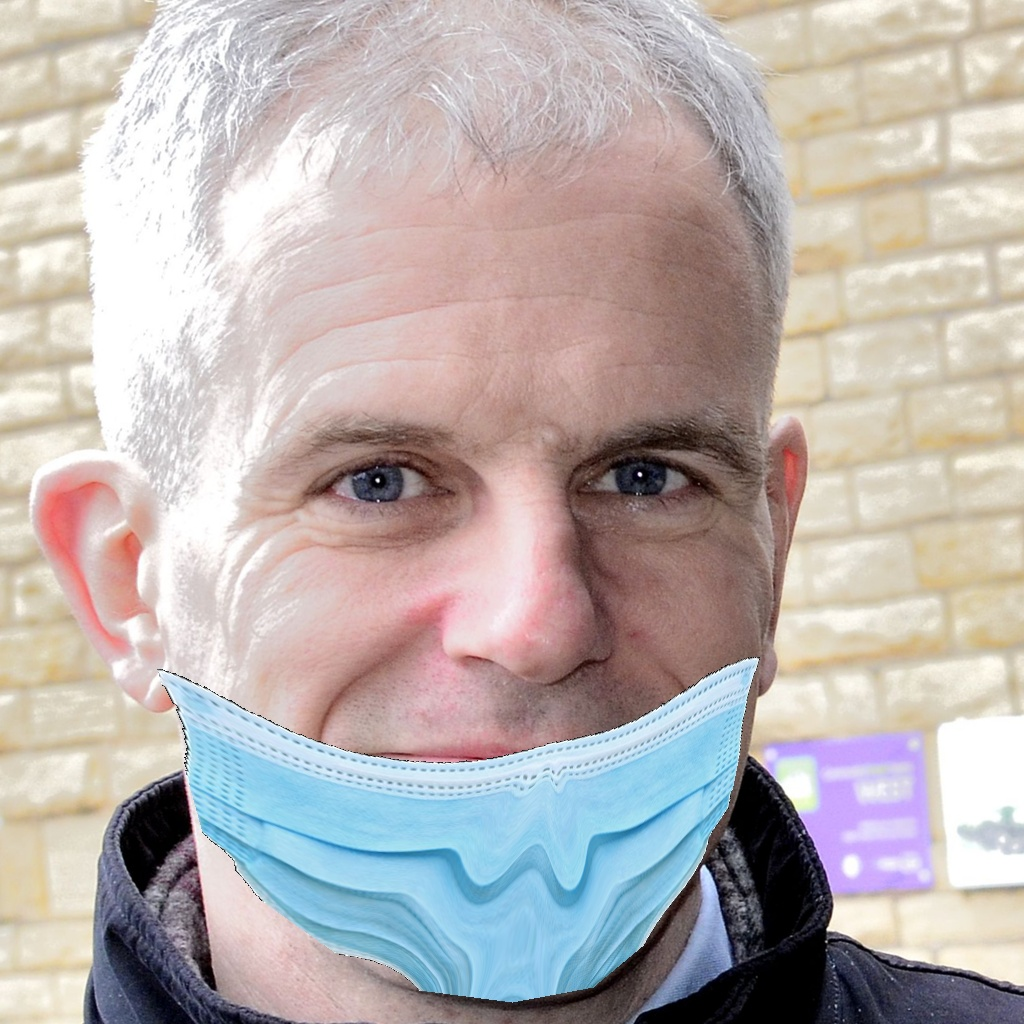mask_weared_incorrect: (132, 384, 810, 1016)
